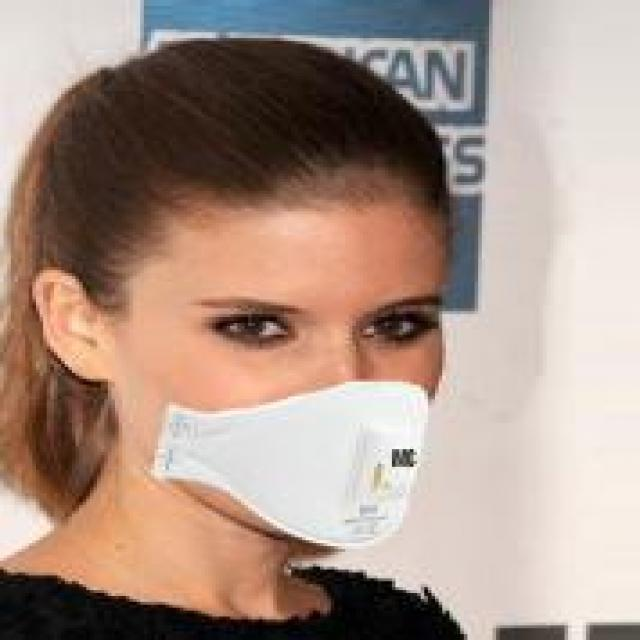mask: (29, 41, 507, 581)
